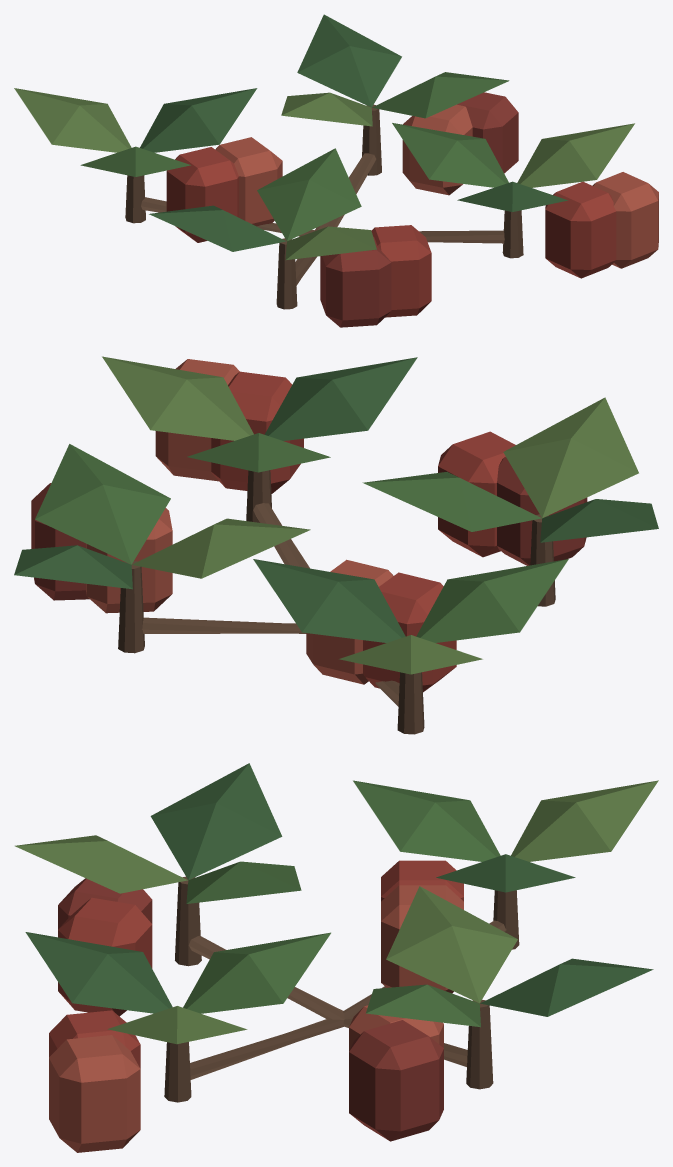
Rendered from wild_strawberry_summer.glb.
3 views of the same model, one above another, from view 1: azimuth 30°, elevation 25°; view 2: azimuth 150°, elevation 25°; view 3: azimuth 270°, elevation 25° (orthographic). The views are drawn at different scales.
Parts seen in each view (by area): view 1: wild_strawberry_summer; view 2: wild_strawberry_summer; view 3: wild_strawberry_summer.
Boxes of the visible parts, x1,y1,x2,y2 form: wild_strawberry_summer: (14, 14, 658, 327); wild_strawberry_summer: (14, 356, 658, 734); wild_strawberry_summer: (15, 763, 658, 1152).
Size of the model in its own units: 1.28 by 0.27 by 1.24.
